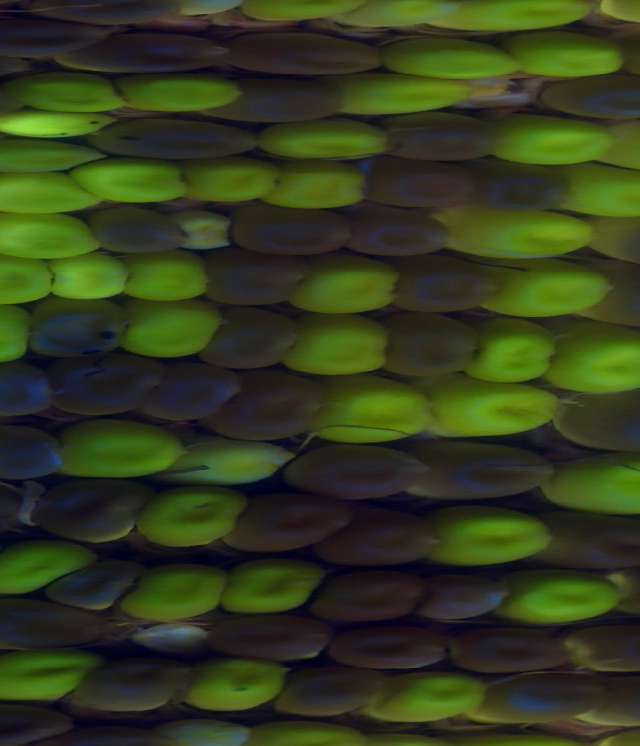fluorescent: (499, 569, 627, 631), (316, 381, 438, 446), (428, 510, 554, 570), (290, 257, 404, 320), (293, 317, 398, 385), (490, 261, 621, 314), (379, 40, 523, 87), (452, 210, 591, 258), (147, 492, 256, 552), (504, 109, 619, 165), (121, 565, 228, 624), (58, 424, 183, 472), (380, 672, 493, 725), (343, 72, 473, 118), (446, 384, 561, 436), (452, 1, 599, 41), (76, 159, 189, 211), (262, 120, 386, 167), (552, 452, 640, 518), (187, 655, 286, 709), (513, 29, 620, 78), (476, 318, 558, 381), (220, 561, 321, 611), (567, 322, 640, 391), (125, 304, 223, 355), (46, 247, 132, 303), (182, 440, 294, 483), (0, 541, 84, 598), (19, 74, 128, 117), (265, 167, 372, 210), (0, 209, 91, 258), (567, 159, 640, 220), (117, 78, 242, 113), (0, 652, 87, 702), (119, 258, 213, 300), (183, 157, 275, 199), (0, 173, 78, 220), (0, 110, 117, 140), (362, 1, 449, 36), (0, 143, 108, 170), (243, 1, 353, 26), (175, 207, 236, 252), (0, 259, 56, 302), (0, 303, 32, 361), (609, 1, 640, 35)
nonfluorescent: (416, 441, 562, 503), (97, 113, 256, 166), (295, 441, 424, 506), (217, 24, 383, 73), (232, 374, 331, 443), (491, 670, 599, 731), (86, 652, 187, 715), (391, 255, 504, 311), (231, 495, 349, 548), (54, 357, 157, 415), (232, 202, 346, 254), (76, 32, 220, 73), (24, 300, 132, 354), (36, 481, 142, 536), (343, 199, 447, 255), (210, 610, 331, 657), (338, 617, 449, 667), (227, 72, 347, 118), (334, 514, 439, 565), (382, 113, 501, 158), (561, 385, 640, 452), (316, 573, 424, 621), (547, 511, 640, 566), (389, 311, 472, 372), (210, 254, 313, 303), (478, 162, 575, 213), (367, 161, 476, 206), (283, 666, 380, 715), (539, 78, 640, 124), (156, 361, 232, 422), (219, 311, 299, 367), (91, 207, 182, 254), (0, 602, 112, 640), (0, 11, 102, 52), (458, 626, 561, 665), (421, 572, 508, 618), (562, 621, 640, 672), (58, 562, 141, 607), (0, 699, 79, 740), (0, 431, 65, 480), (0, 369, 50, 425), (599, 261, 640, 325), (599, 210, 640, 266), (599, 676, 640, 728), (0, 51, 31, 80)
